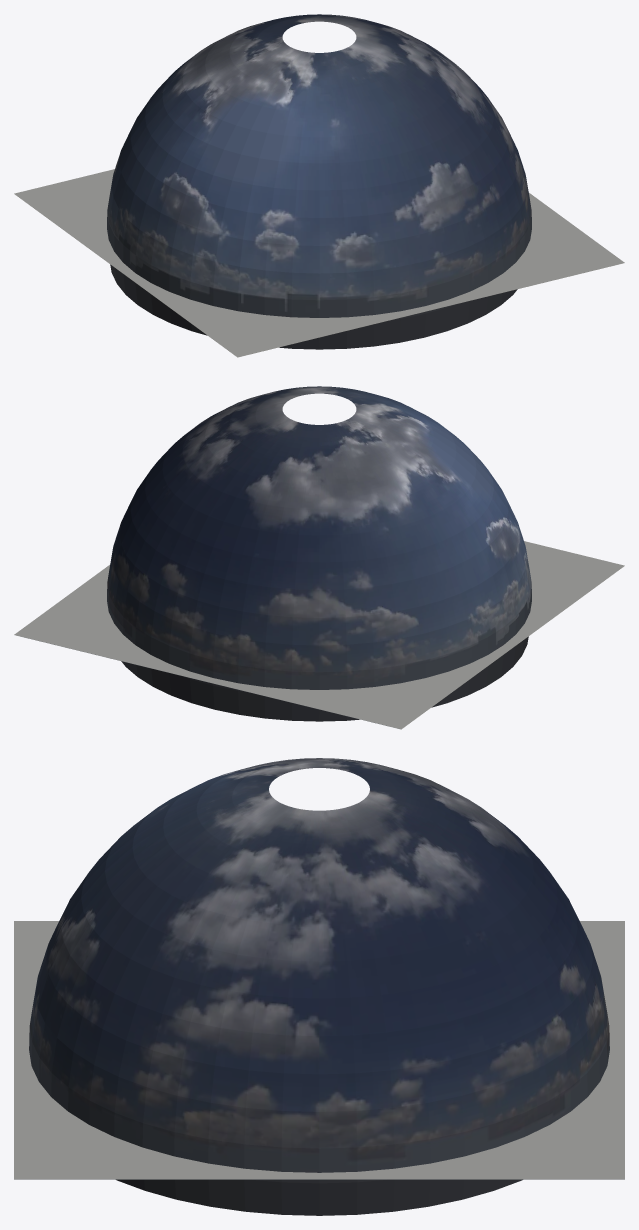
File: z-exterior.full.1b54a65a.glb
3 views of the same model, one above another, from view 1: azimuth 30°, elevation 25°; view 2: azimuth 150°, elevation 25°; view 3: azimuth 270°, elevation 25° (orthographic). The views are drawn at different scales.
Parts seen in each view (by area): view 1: exterior_band, mid_houses; view 2: exterior_band, mid_houses; view 3: exterior_band, mid_houses.
Part boxes in pixels (x1,y1,x2,y2): exterior_band: (107,14,531,349); mid_houses: (14,169,624,357); exterior_band: (107,386,531,721); mid_houses: (14,541,624,729); exterior_band: (29,758,609,1215); mid_houses: (14,921,624,1179).
Bounding box in the file's own units: 840 × 463 × 840.
Materials: 2 (2 with a texture image).
